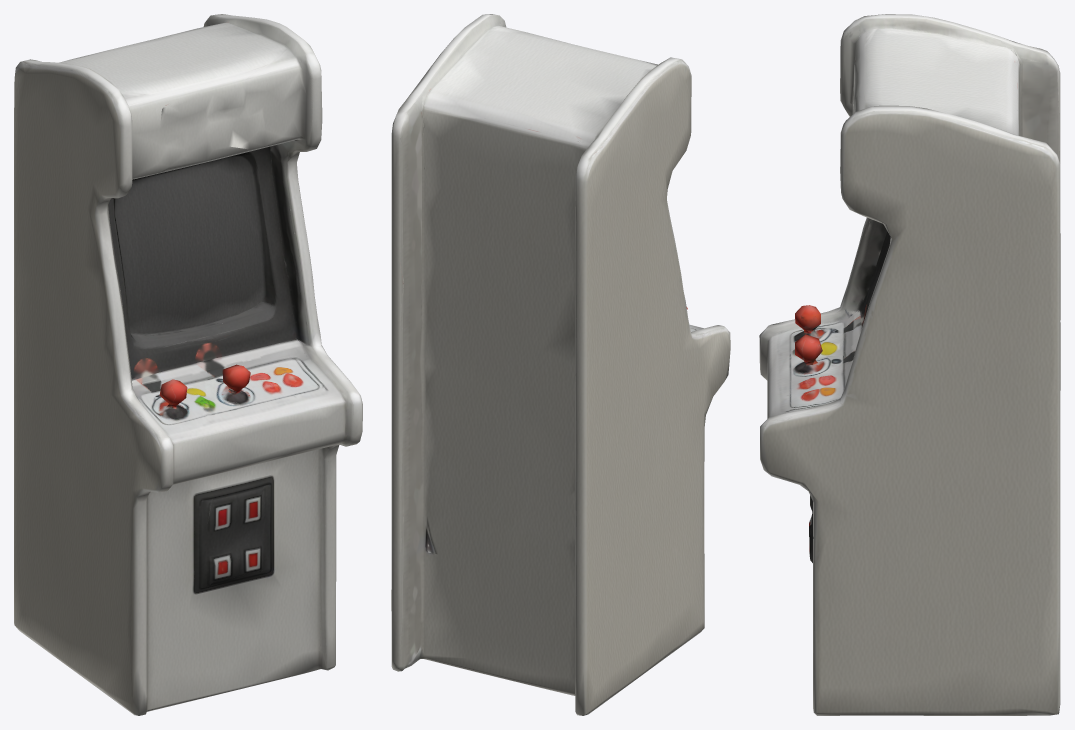
The model's file is Arcade Black.fbx.
3 renders of one model, left to right at view 1: azimuth 30°, elevation 25°; view 2: azimuth 150°, elevation 25°; view 3: azimuth 270°, elevation 25°, orthographic. The views are drawn at different scales.
Parts seen in each view (by area): view 1: material_0; view 2: material_0; view 3: material_0.
Part boxes in pixels (x1=…): material_0: x1=14, y1=14, x2=362, y2=715; material_0: x1=391, y1=14, x2=730, y2=715; material_0: x1=759, y1=14, x2=1060, y2=715.
Bounding box in the file's own units: 35.08 × 100 × 44.9.
Materials: 1 (1 with a texture image).
